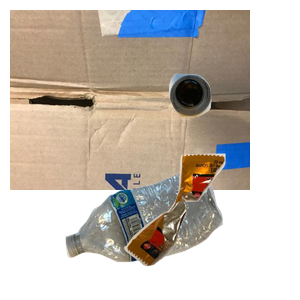cardboard: (10, 10, 250, 190)
glass: (166, 71, 300, 181)
plastic: (63, 170, 278, 300)
trash: (122, 151, 300, 300)
